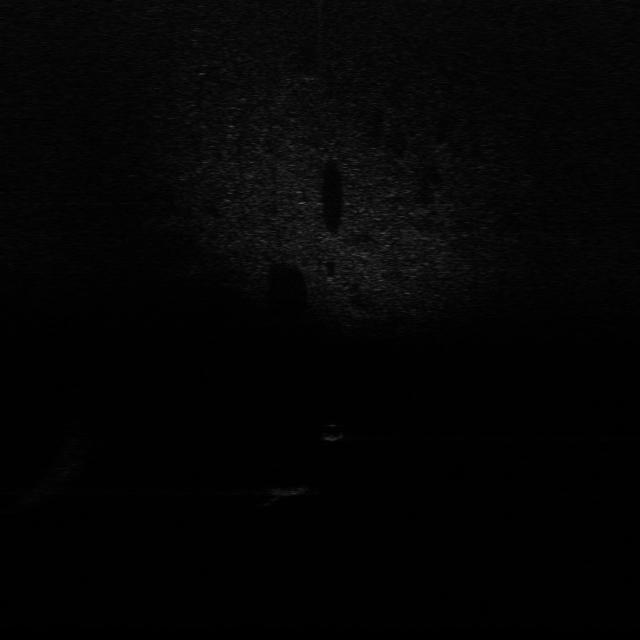ball: (317, 420, 349, 444)
square cage: (260, 480, 320, 500)
